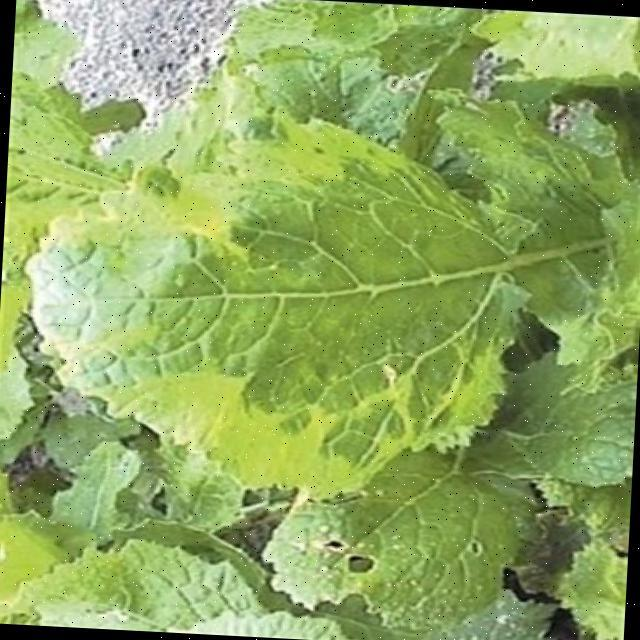Lettuce Mosaic Virus: (14, 84, 628, 520)
